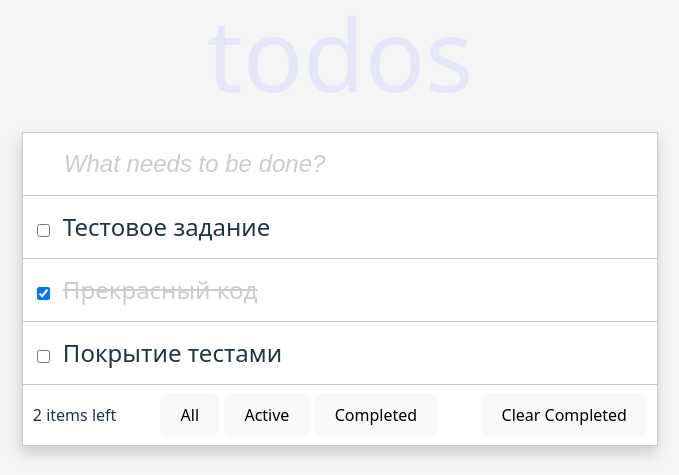
Test case: App Component › показывает счетчик активных задач
The width and height of the screenshot is (679, 475).
Expected: the text "Тестовое задание" is shown, x1=63 y1=209 x2=270 y2=245
Expected: the text "2 items left" is shown, x1=33 y1=403 x2=116 y2=427
Отмечаем одну задачу выполненной
Click the checkbox next to "Тестовое задание": {"x": 43, "y": 230} x1=37 y1=224 x2=50 y2=237
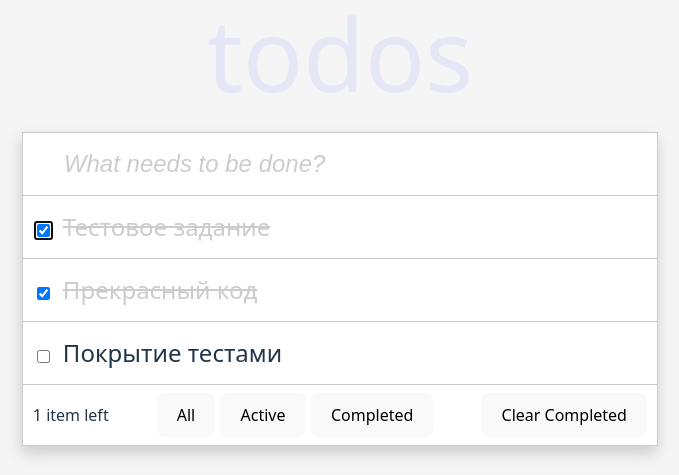
Result: the text "1 item left" is shown at x1=33 y1=403 x2=109 y2=427
